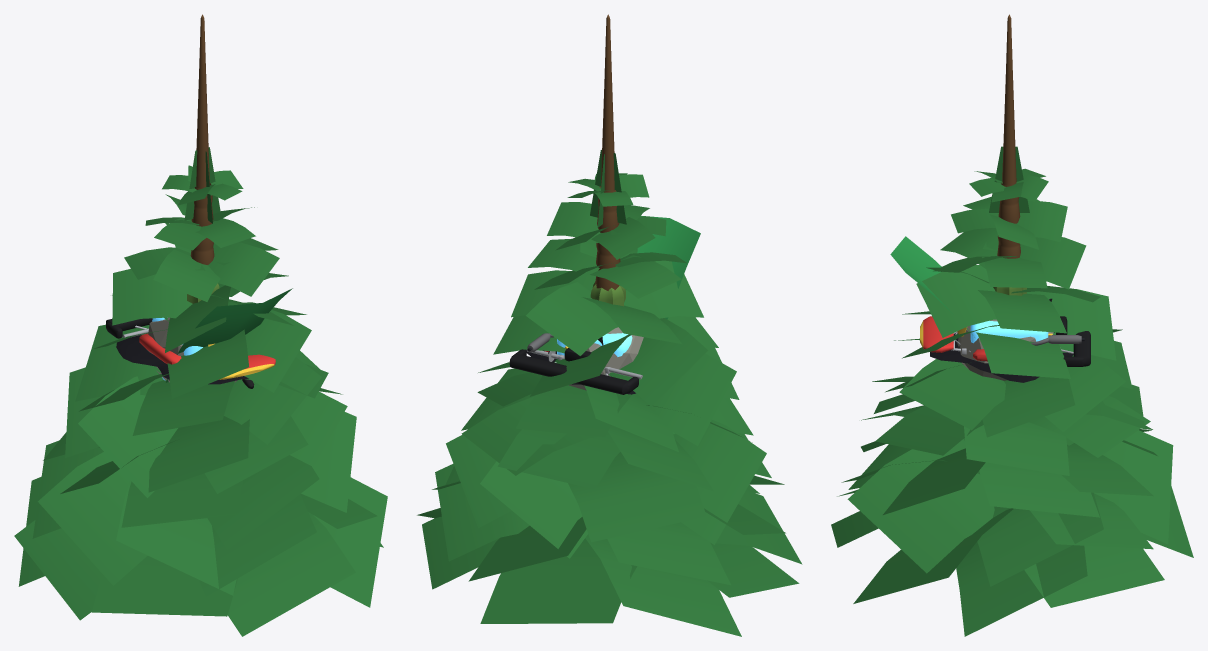
The model's file is kartlands.glb.
3 renders of one model, left to right at view 1: azimuth 30°, elevation 25°; view 2: azimuth 150°, elevation 25°; view 3: azimuth 270°, elevation 25°, orthographic. The views are drawn at different scales.
Parts seen in each view (by area): view 1: tree_leaves, palm_frond, kart_body, tree_trunk, oil, palm_trunk, rock; view 2: tree_leaves, kart_body, palm_frond, tree_trunk, palm_trunk, rock; view 3: tree_leaves, kart_body, tree_trunk, palm_frond, palm_trunk, oil, itembox, rock.
Part boxes in pixels (x1,y1,x2,y2): tree_leaves: [14, 147, 387, 636]; palm_frond: [166, 288, 292, 382]; kart_body: [106, 318, 275, 379]; tree_trunk: [196, 14, 209, 188]; oil: [116, 335, 248, 384]; palm_trunk: [190, 183, 214, 264]; rock: [147, 317, 237, 382]; tree_leaves: [417, 150, 802, 636]; kart_body: [509, 333, 642, 394]; palm_frond: [637, 215, 700, 319]; tree_trunk: [600, 14, 614, 191]; palm_trunk: [595, 186, 620, 290]; rock: [556, 327, 643, 390]; tree_leaves: [831, 146, 1193, 636]; kart_body: [920, 298, 1090, 366]; tree_trunk: [1002, 14, 1016, 185]; palm_frond: [890, 236, 978, 341]; palm_trunk: [997, 183, 1020, 258]; oil: [930, 333, 1073, 382]; itembox: [970, 320, 1048, 343]; rock: [957, 319, 1053, 380].
Size of the model in its own units: 7.93 by 13.22 by 7.93.
